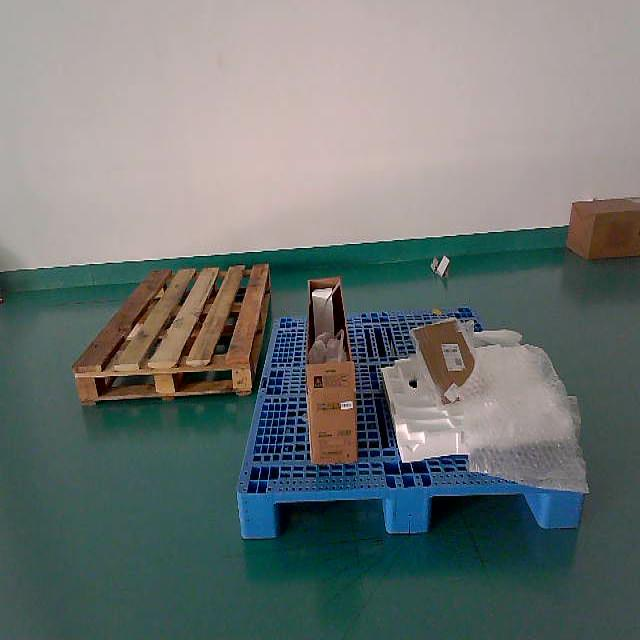euro: (72, 263, 272, 408)
